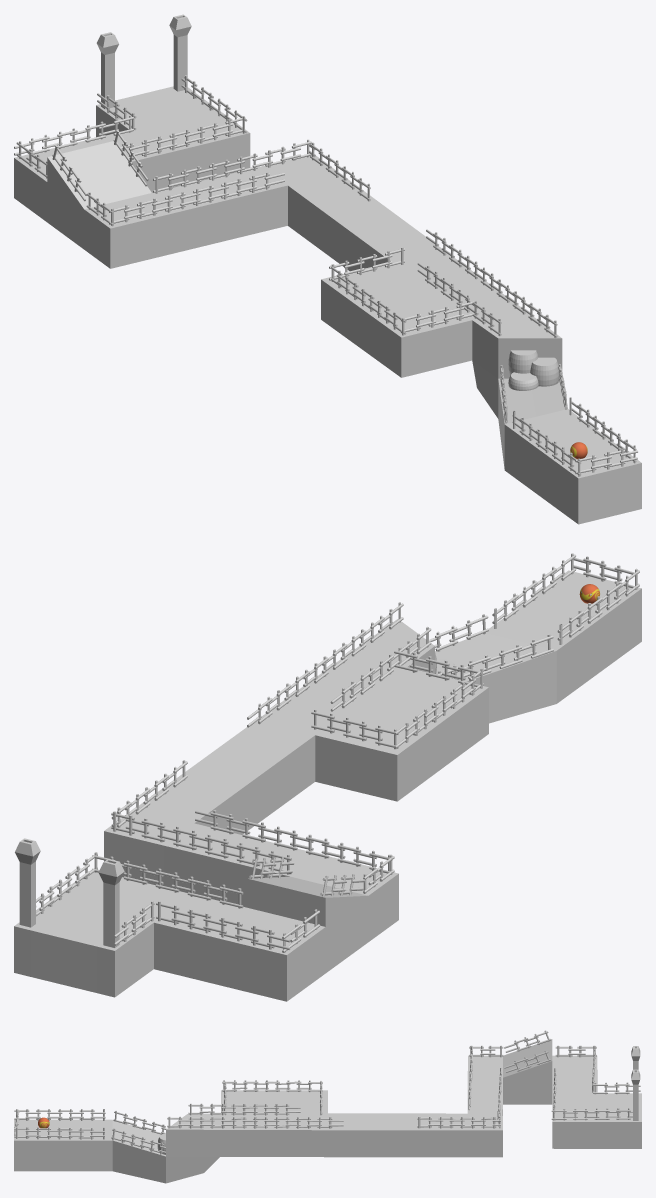
File: Level 1.fbx
The picture shows the model from 3 angles, top to bottom: view 1: azimuth 30°, elevation 25°; view 2: azimuth 150°, elevation 25°; view 3: azimuth 270°, elevation 25°; orthographic projection. The views are drawn at different scales.
Parts seen in each view (by area): view 1: Cube, Cylinder.012, Cylinder.006, Cylinder.009, Cylinder.017, Cylinder.020, Cylinder.008, Cylinder.025, Cylinder.001, Cylinder.005, Cylinder.010, Cylinder.021 (+2 smaller); view 2: Cube, Cylinder.012, Cylinder.006, Cylinder.009, Cylinder.017, Cylinder.020, Cylinder.008, Cylinder.025, Cylinder.005, Cylinder.001, Cylinder.007, Cylinder.024 (+5 smaller); view 3: Cube, Cylinder.006, Cylinder.008, Cylinder.025, Cylinder.010, Cylinder.005, Cylinder.001, Cylinder.021, Cylinder.004, Cylinder.007, Cylinder.015, Cylinder.016 (+1 smaller).
Part boxes in pixels (left/top/right/bottom): Cube: left=14, top=14, right=641, bottom=524; Cylinder.012: left=109, top=172, right=284, bottom=224; Cylinder.006: left=426, top=229, right=557, bottom=337; Cylinder.009: left=153, top=146, right=300, bottom=193; Cylinder.017: left=121, top=117, right=245, bottom=158; Cylinder.020: left=14, top=115, right=133, bottom=155; Cylinder.008: left=417, top=263, right=501, bottom=336; Cylinder.025: left=330, top=265, right=406, bottom=335; Cylinder.001: left=512, top=415, right=581, bottom=476; Cylinder.005: left=571, top=401, right=636, bottom=463; Cylinder.010: left=309, top=142, right=370, bottom=201; Cylinder.021: left=181, top=75, right=247, bottom=133; Cube: left=14, top=570, right=641, bottom=1001; Cylinder.012: left=195, top=810, right=392, bottom=874; Cylinder.006: left=247, top=602, right=403, bottom=727; Cylinder.009: left=125, top=818, right=291, bottom=874; Cylinder.017: left=92, top=855, right=243, bottom=908; Cylinder.020: left=156, top=901, right=290, bottom=950; Cylinder.008: left=330, top=626, right=431, bottom=711; Cylinder.025: left=394, top=668, right=483, bottom=748; Cylinder.005: left=492, top=553, right=576, bottom=623; Cylinder.001: left=557, top=568, right=639, bottom=640; Cylinder.007: left=437, top=633, right=553, bottom=679; Cylinder.024: left=311, top=709, right=398, bottom=749; Cube: left=14, top=1039, right=641, bottom=1183; Cylinder.006: left=167, top=1116, right=343, bottom=1128; Cylinder.008: left=188, top=1103, right=300, bottom=1115; Cylinder.025: left=222, top=1080, right=322, bottom=1092; Cylinder.010: left=417, top=1116, right=500, bottom=1128; Cylinder.005: left=14, top=1127, right=104, bottom=1139; Cylinder.001: left=14, top=1109, right=105, bottom=1120; Cylinder.021: left=551, top=1108, right=632, bottom=1120; Cylinder.004: left=111, top=1128, right=165, bottom=1154; Cylinder.007: left=113, top=1110, right=166, bottom=1134; Cylinder.015: left=504, top=1030, right=551, bottom=1052; Cylinder.016: left=504, top=1050, right=551, bottom=1072.
Size of the model in its own units: 4.12 by 2.61 by 14.59.
1 material, 1 textured.
